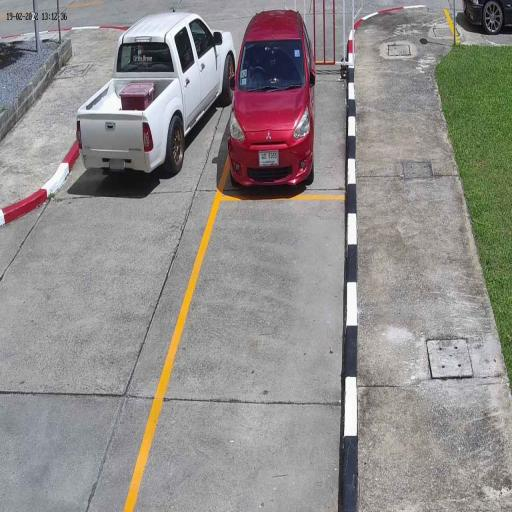car: (75, 13, 236, 179), (228, 11, 316, 191)
